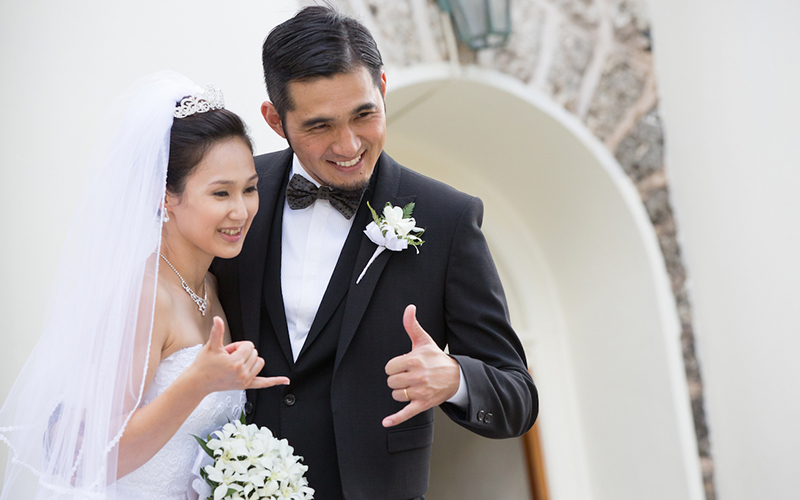face: (260, 65, 389, 189), (174, 134, 260, 257)
hand: (378, 301, 461, 428), (191, 316, 290, 391)
